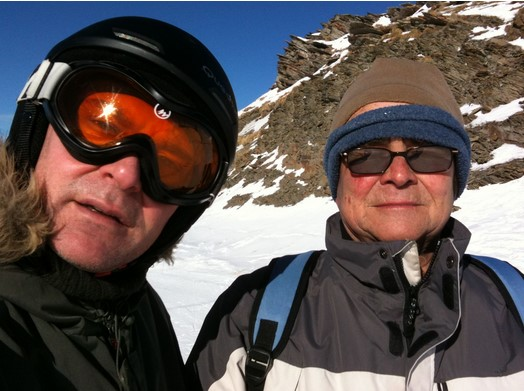face_no_mask: (25, 47, 217, 284), (330, 108, 465, 251)
